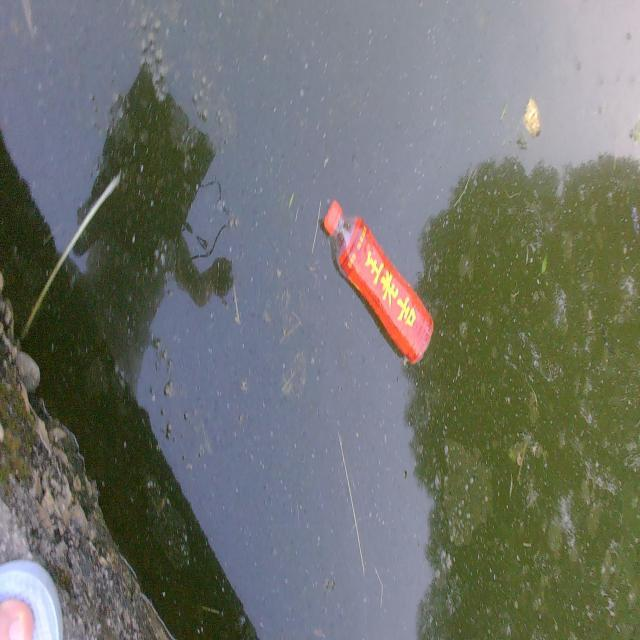bottle: (312, 188, 448, 374)
